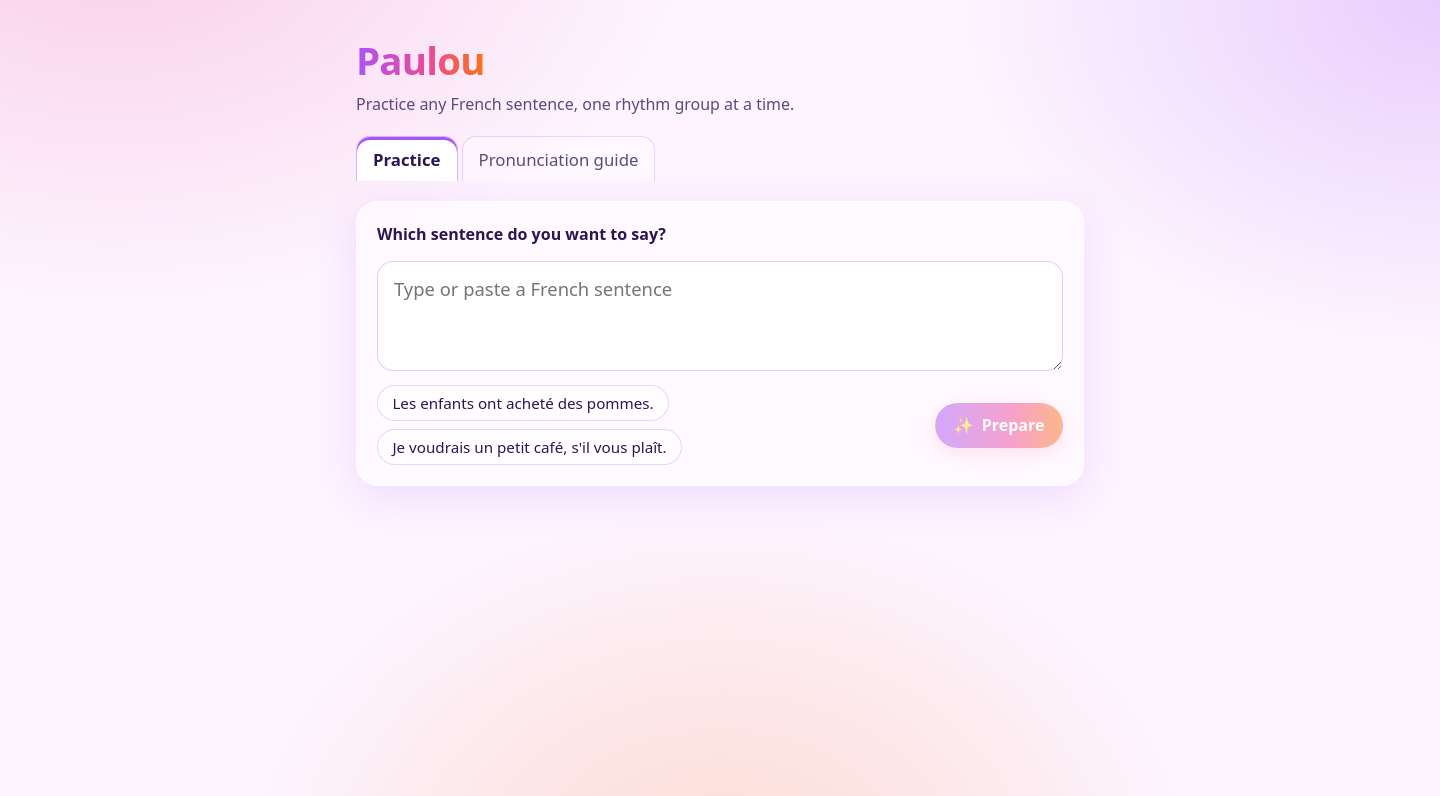
Test: App › practises the whole sentence from its own tab and groups the results by chunk
Step 1. Type "Bonjour les amis" into the text box labelled "Which sentence do you want to say?" → [720, 316], box [377,261,1063,371]
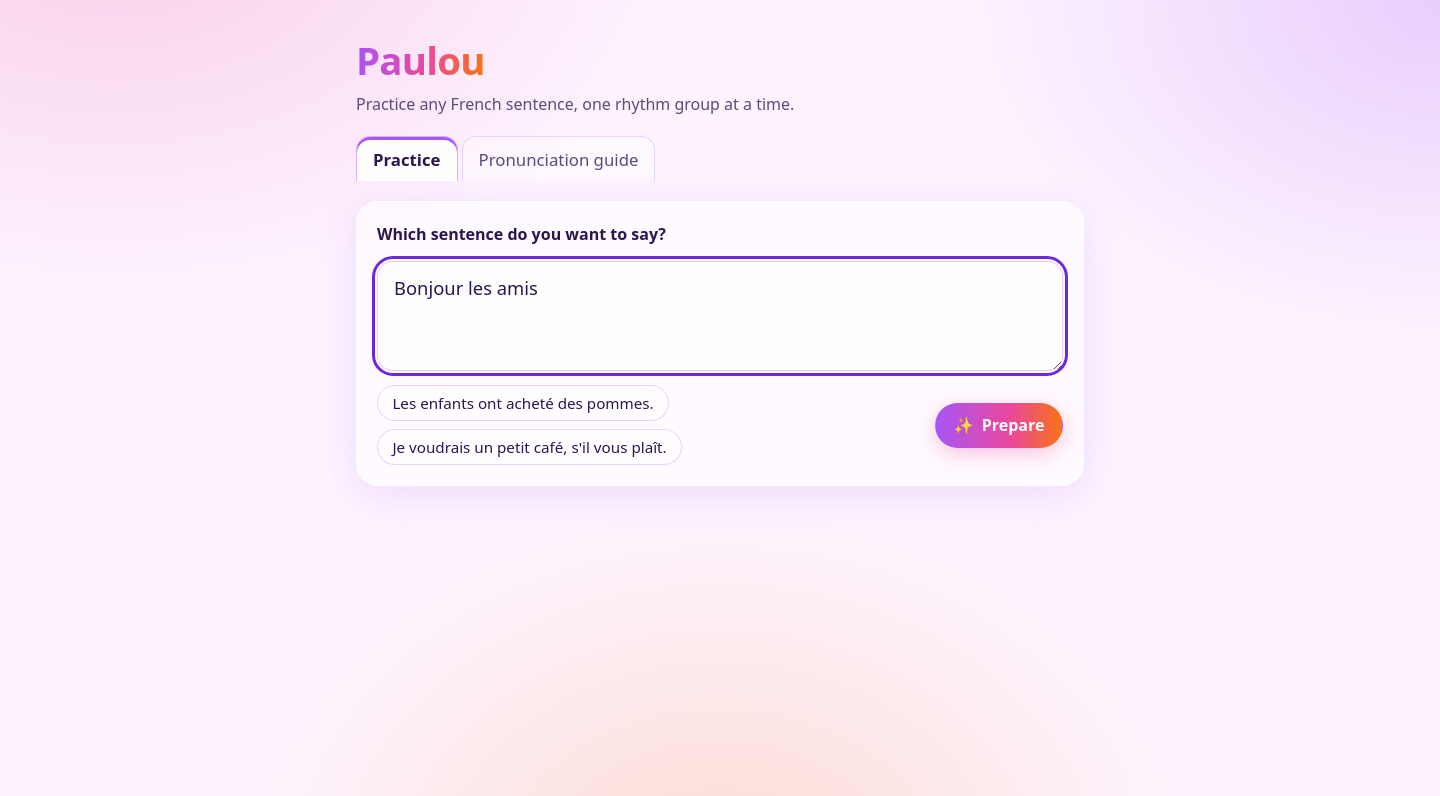
Step 2. Click the button "✨ Prepare" → [999, 425], box [935,403,1063,448]
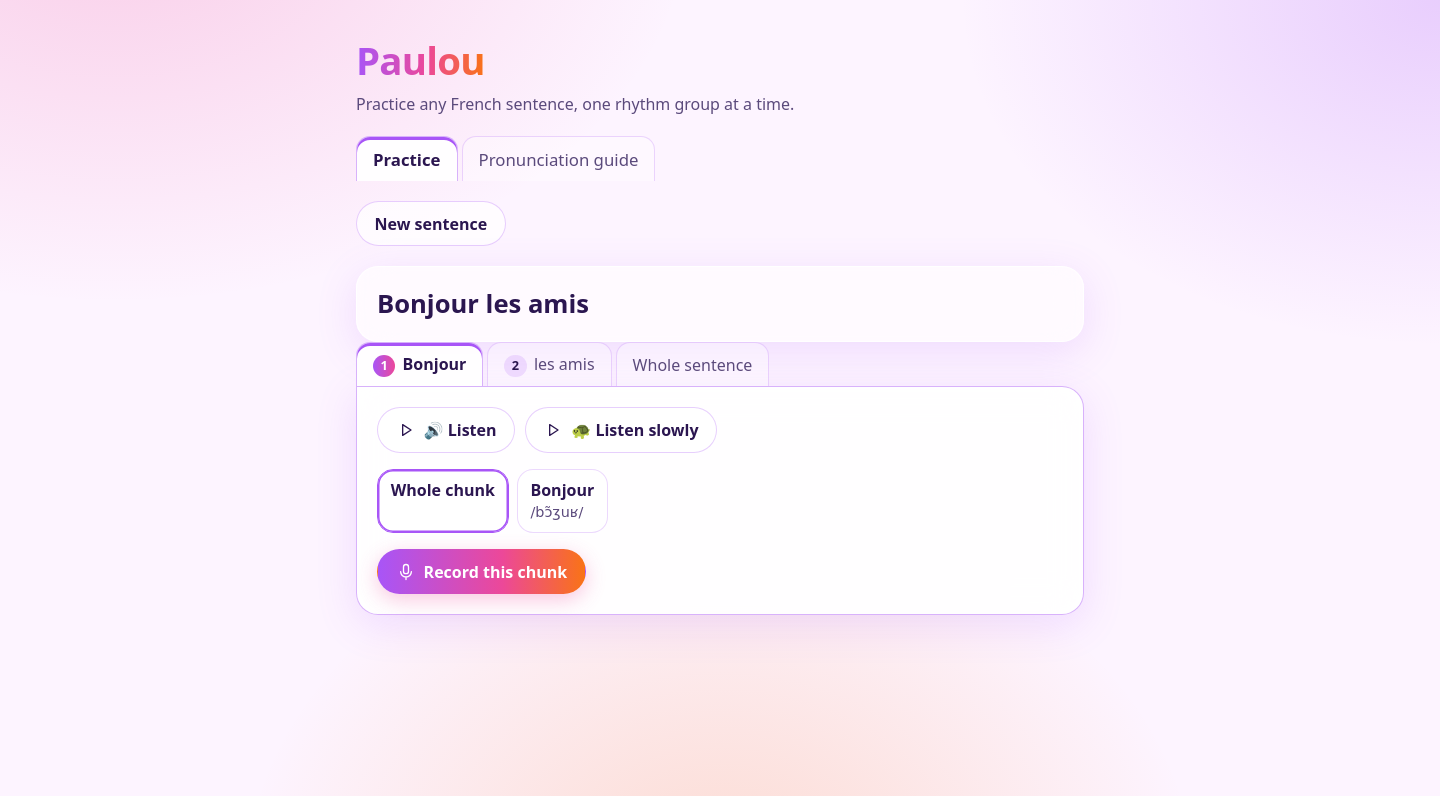
Step 3. Click the tab "Whole sentence" → [692, 364], box [616,342,769,387]
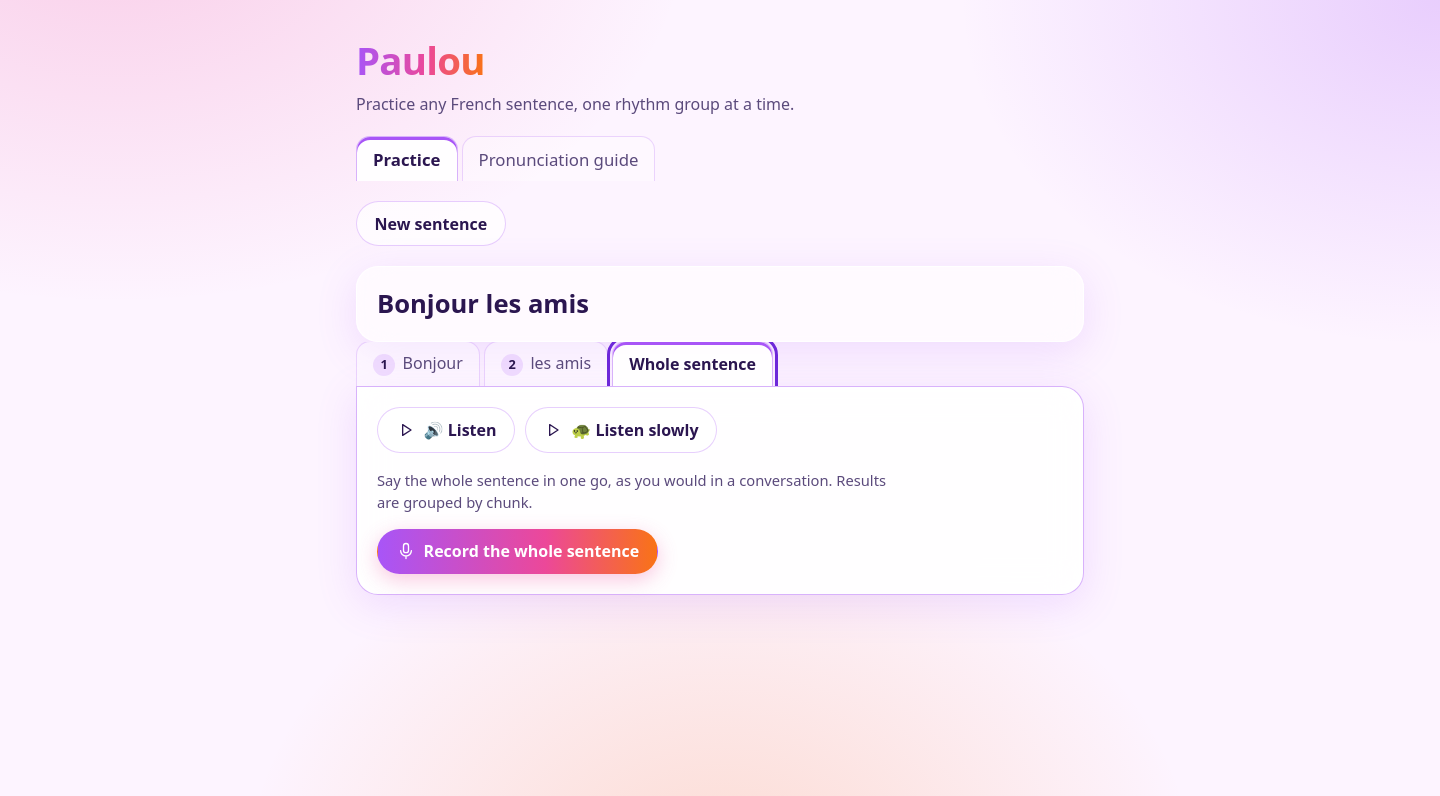
expect the tab "Whole sentence" is selected: met, box [612,342,773,386]
Step 4. Click the button "Record the whole sentence" → [517, 551], box [377,529,658,574]
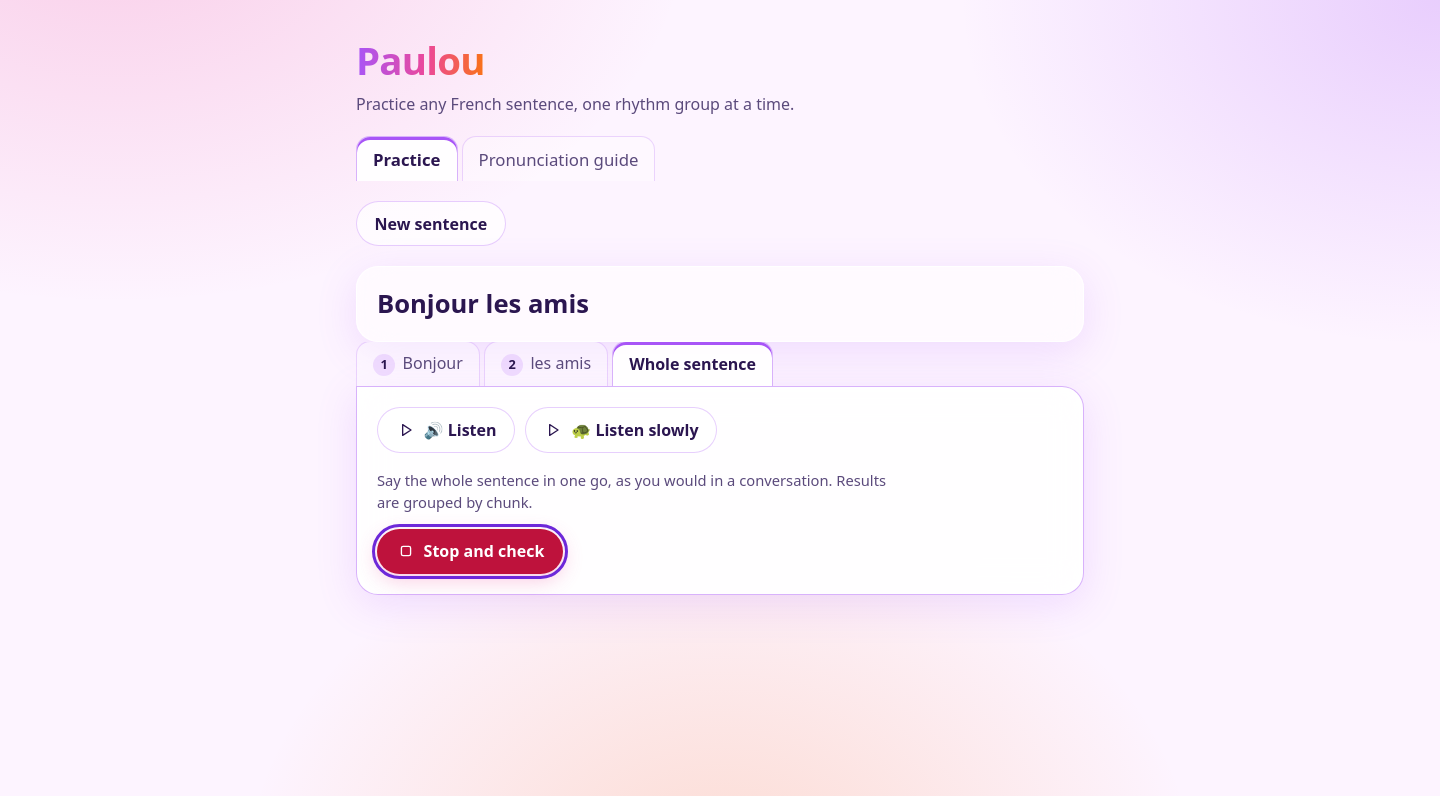
Step 5. Click the button "Stop and check" → [470, 551], box [377,529,563,574]
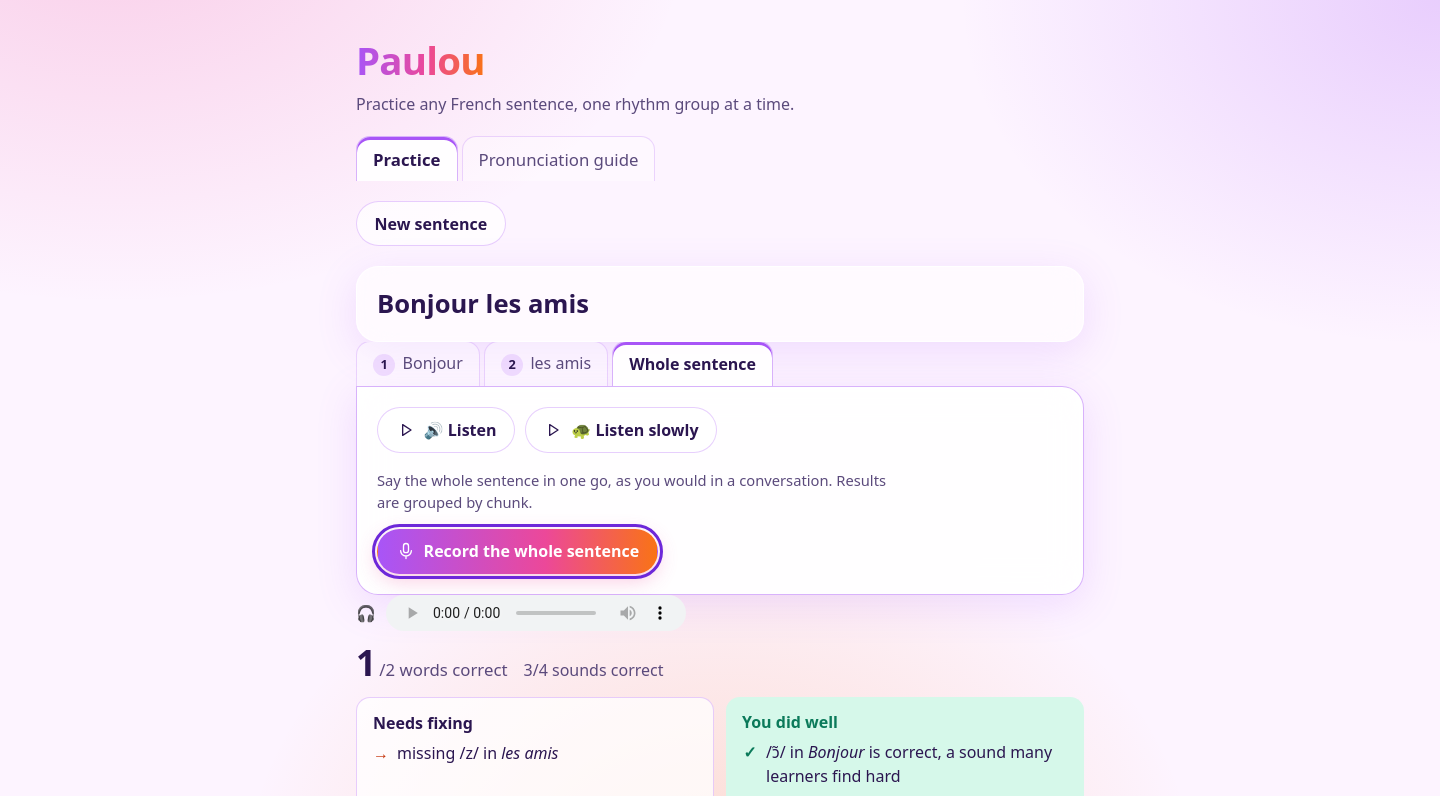
expect the element showing "1/2 words correct 3/4 sounds correct" is shown: met, box [356,638,664,686]
